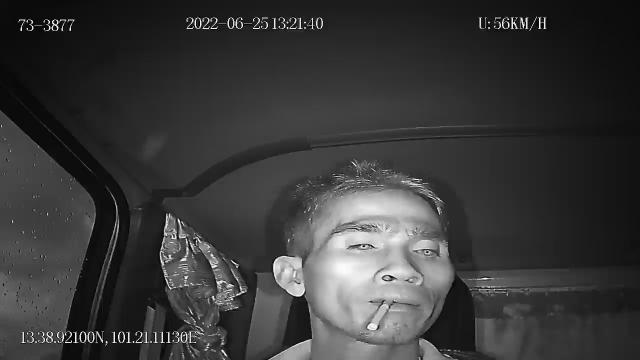SafeDriving: (340, 232, 385, 258), (405, 236, 449, 262)
Smoking: (366, 298, 394, 332)
